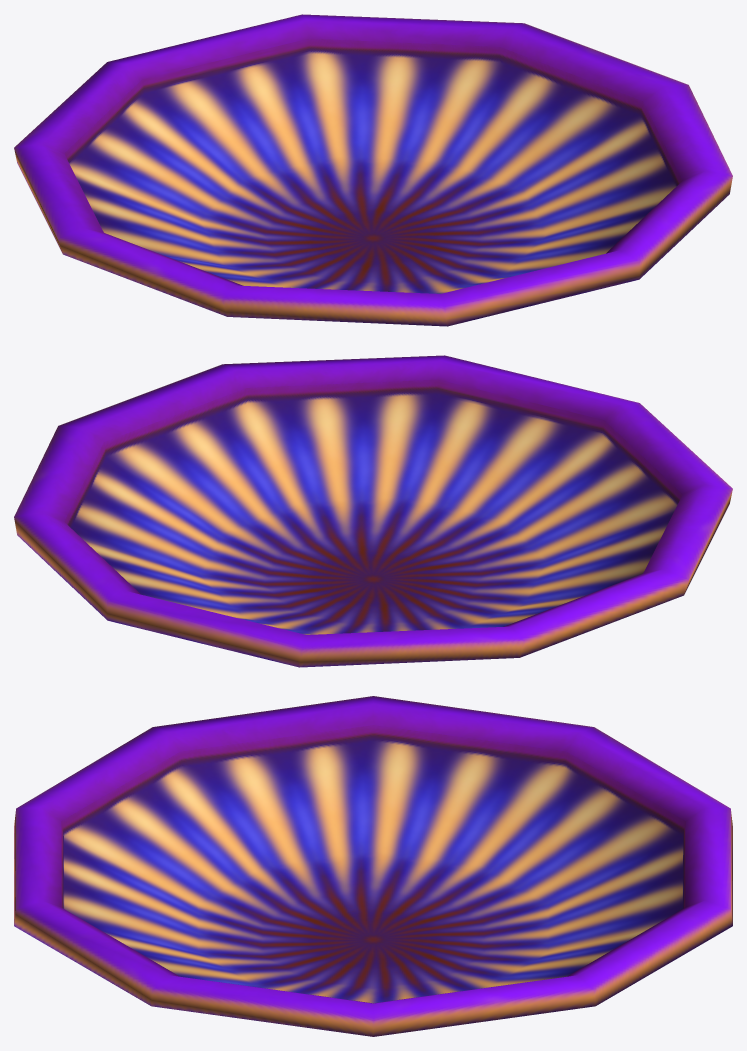
The model's file is Saucer_CHESHIRE_CAT.dae.
3 views of the same model, one above another, from view 1: azimuth 30°, elevation 25°; view 2: azimuth 150°, elevation 25°; view 3: azimuth 270°, elevation 25° (orthographic). The views are drawn at different scales.
Visible parts, largest first — view 1: mesh0; view 2: mesh0; view 3: mesh0.
Boxes of the visible parts, <box> form: mesh0: <box>14,14,732,326</box>; mesh0: <box>14,355,732,667</box>; mesh0: <box>14,696,732,1036</box>.
Size of the model in its own units: 0.3021 by 0.047 by 0.2819.
